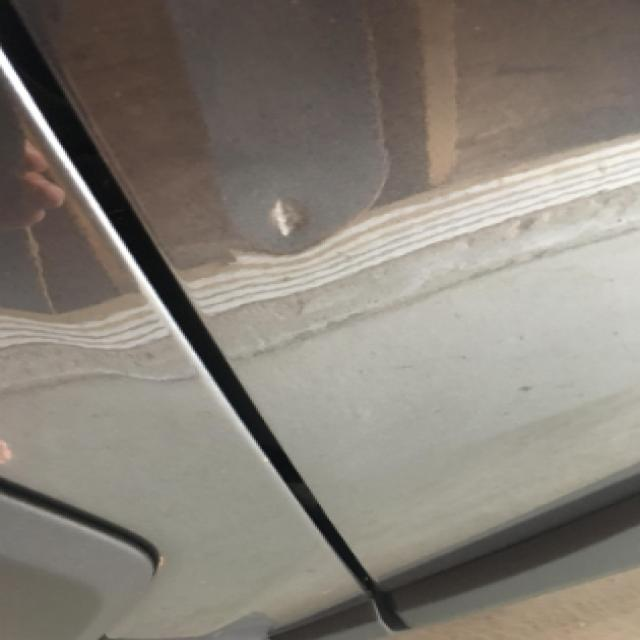dents: (245, 171, 338, 258)
